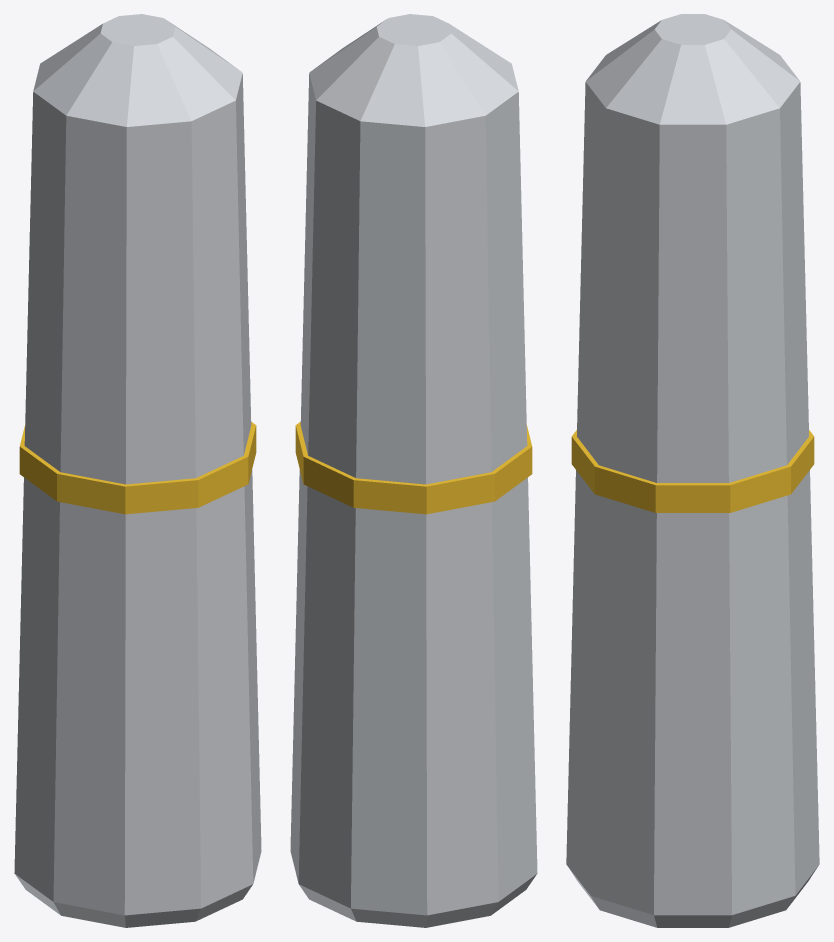
Rendered from pin.glb.
3 renders of one model, left to right at view 1: azimuth 30°, elevation 25°; view 2: azimuth 150°, elevation 25°; view 3: azimuth 270°, elevation 25°, orthographic.
Visible parts, largest first — view 1: pin; view 2: pin; view 3: pin.
Boxes of the visible parts, box(x1,y1,x2,y2) form: pin: box(14, 14, 261, 927); pin: box(290, 14, 537, 927); pin: box(566, 14, 819, 927).
Bounding box in the file's own units: 0.6277 × 2.45 × 0.66.
